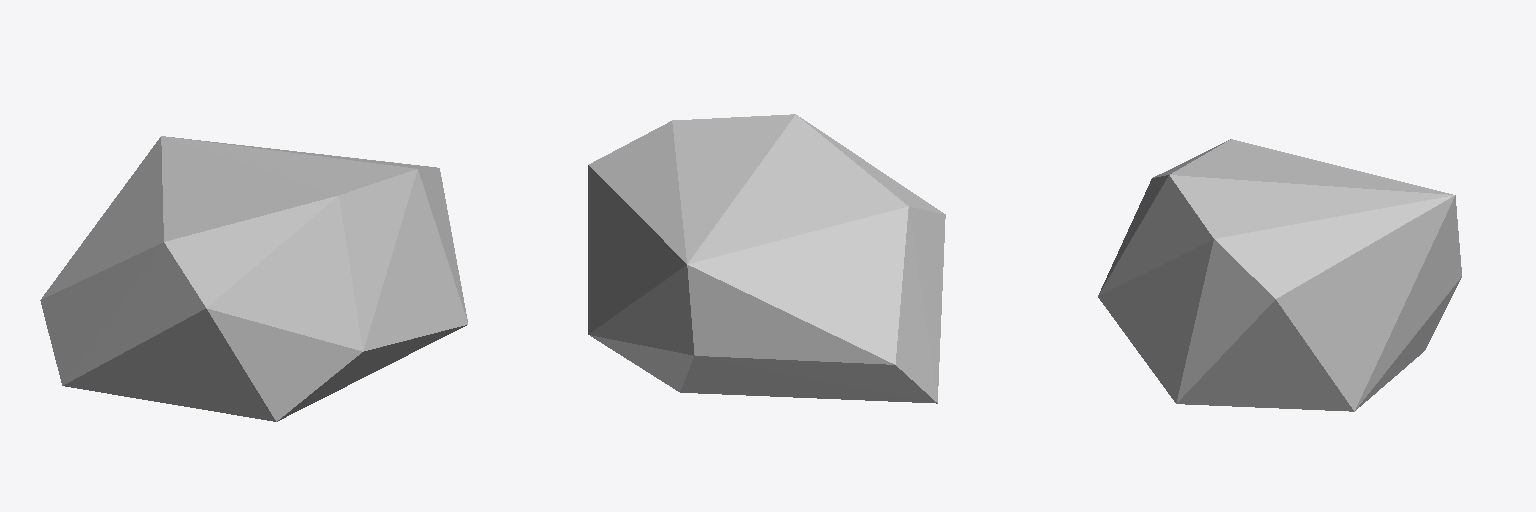
3 views of the same model, side by side, from view 1: azimuth 30°, elevation 25°; view 2: azimuth 150°, elevation 25°; view 3: azimuth 270°, elevation 25° (orthographic).
Parts seen in each view (by area): view 1: rock; view 2: rock; view 3: rock.
Part boxes in pixels (x1,y1,x2,y2): rock: (40,136,467,421); rock: (588,114,945,403); rock: (1098,139,1461,411).
Size of the model in its own units: 0.821 by 0.4079 by 0.7132.